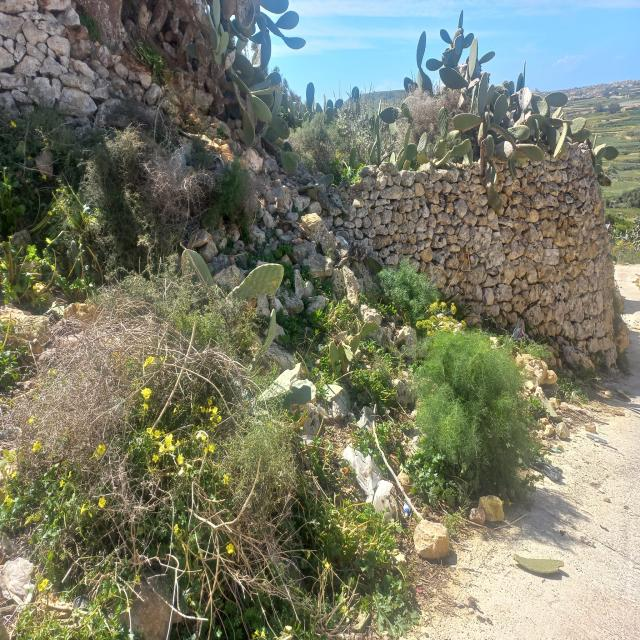Bottle: (404, 499, 411, 518)
Lid: (72, 596, 91, 609)
Other plastic: (342, 442, 394, 521), (0, 556, 35, 596)
